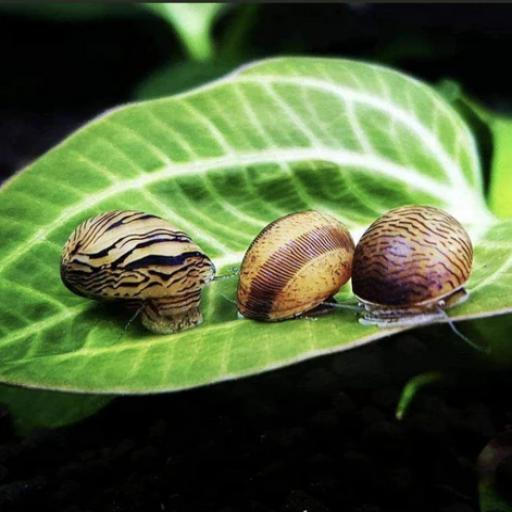Snail: (48, 206, 220, 332), (235, 210, 357, 322), (351, 204, 474, 312)
